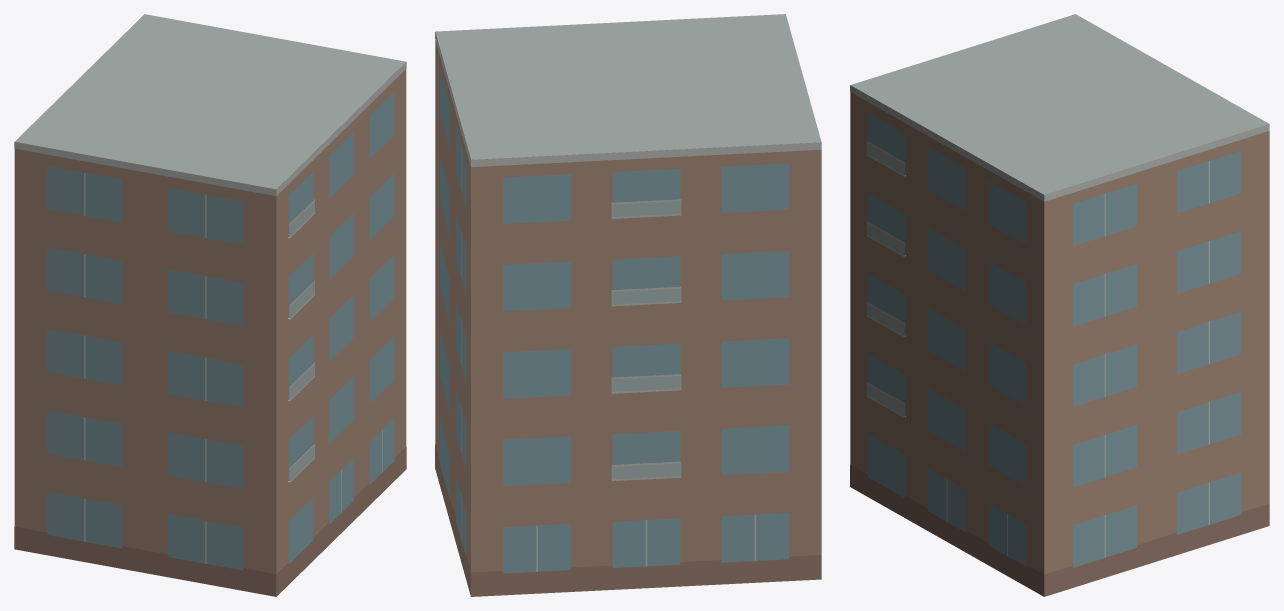
File: residential-8216c3d1-cfc3-4a91-a541-9756c7305e7c.glb
3 renders of one model, left to right at view 1: azimuth 30°, elevation 25°; view 2: azimuth 150°, elevation 25°; view 3: azimuth 270°, elevation 25°, orthographic. The views are drawn at different scales.
Visible parts, largest first — view 1: residential-8216c3d1-cfc3-4a91-a541-9756c7305e7c.tmp; view 2: residential-8216c3d1-cfc3-4a91-a541-9756c7305e7c.tmp; view 3: residential-8216c3d1-cfc3-4a91-a541-9756c7305e7c.tmp.
Boxes of the visible parts, x1,y1,x2,y2 form: residential-8216c3d1-cfc3-4a91-a541-9756c7305e7c.tmp: (14,14,406,596); residential-8216c3d1-cfc3-4a91-a541-9756c7305e7c.tmp: (435,14,821,596); residential-8216c3d1-cfc3-4a91-a541-9756c7305e7c.tmp: (850,14,1269,596).
Bounding box in the file's own units: 14.01 × 14.5 × 13.72.
